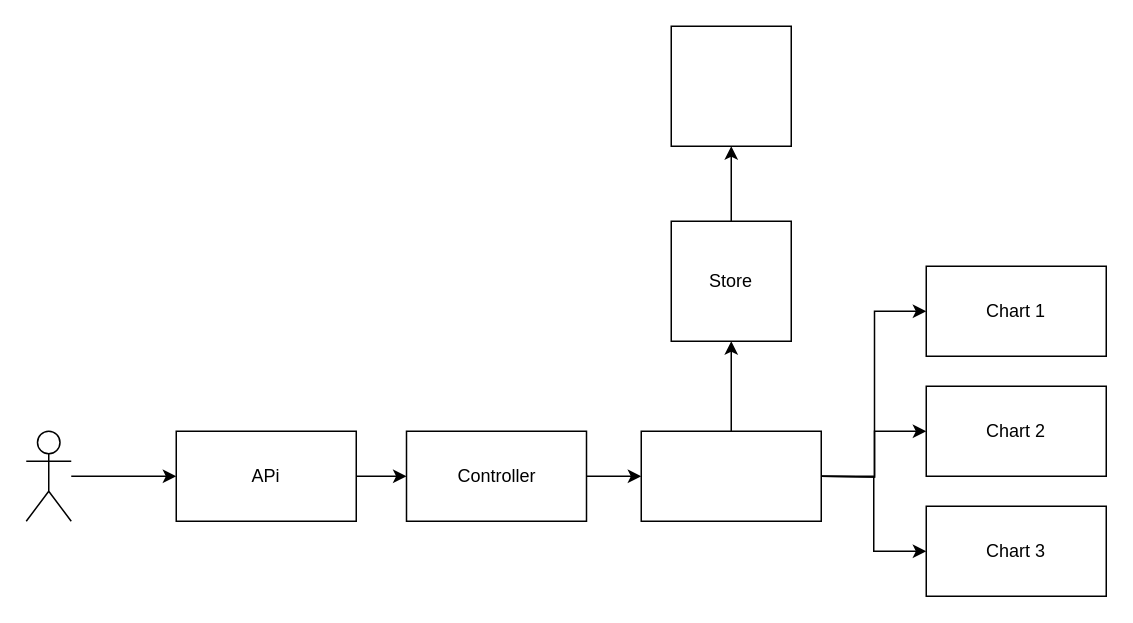
Image size: 1133x623. Some labels were removed from this diagram. Each missing label, with the box of its shape:
Actor: (25, 430, 71, 521)
ETS: (670, 25, 791, 146)
Service: (640, 430, 821, 521)
